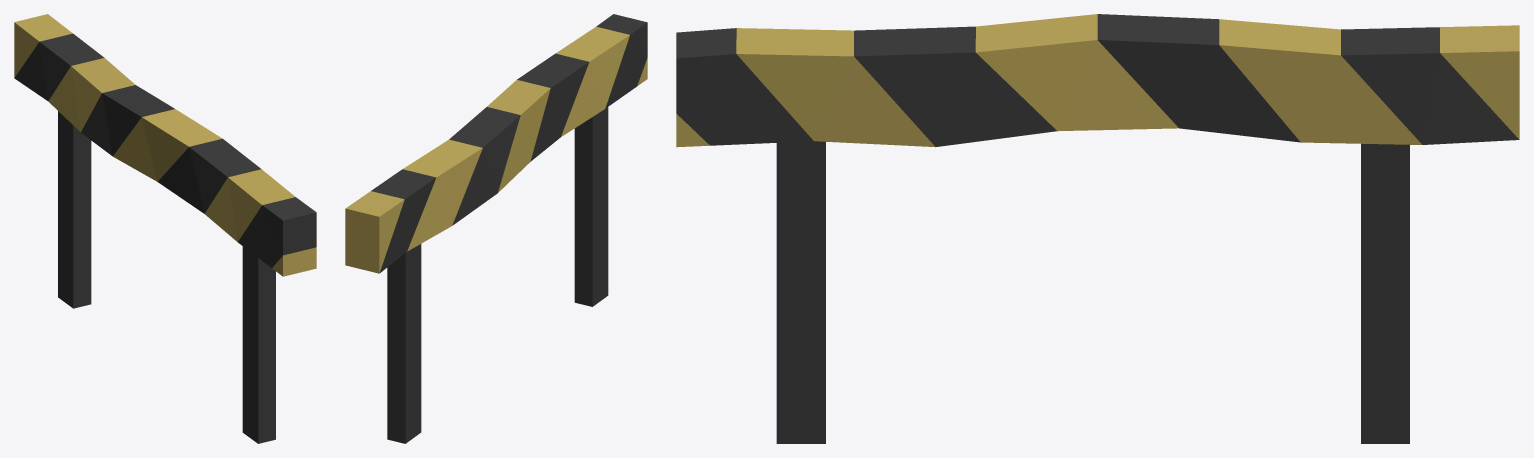
File: traffic_fence_1.fbx
3 renders of one model, left to right at view 1: azimuth 30°, elevation 25°; view 2: azimuth 150°, elevation 25°; view 3: azimuth 270°, elevation 25°, orthographic. The views are drawn at different scales.
Visible parts, largest first — view 1: traffic_fence_1; view 2: traffic_fence_1; view 3: traffic_fence_1.
Part boxes in pixels (<box>): traffic_fence_1: <box>14,14,316,443</box>; traffic_fence_1: <box>345,14,647,443</box>; traffic_fence_1: <box>676,14,1519,443</box>.
Size of the model in its own units: 43.94 by 222 by 420.
